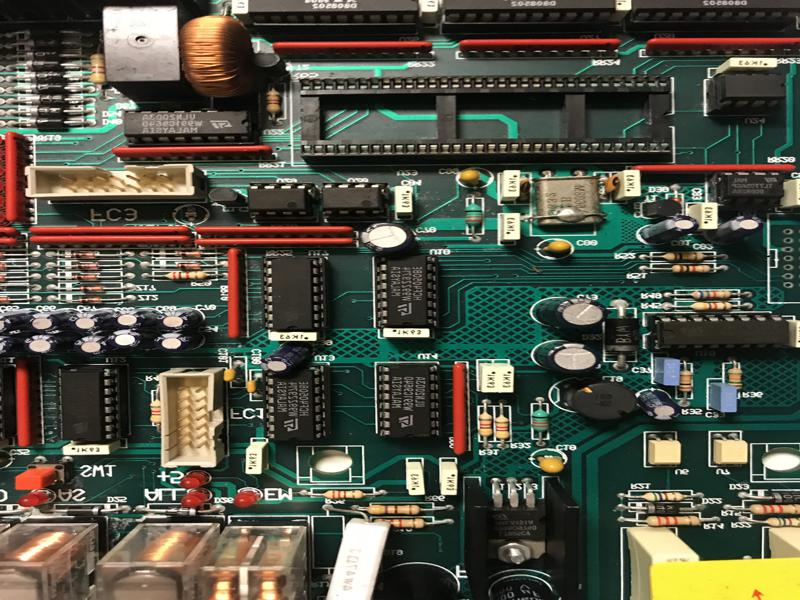Capacitor: (537, 297, 608, 330), (535, 339, 601, 374), (713, 214, 766, 246), (640, 215, 698, 244), (362, 221, 414, 253), (260, 343, 311, 375), (637, 392, 681, 422), (156, 307, 206, 333), (22, 333, 71, 358), (111, 307, 160, 329), (69, 310, 115, 333), (153, 332, 204, 352), (1, 306, 37, 334), (29, 310, 70, 333), (106, 330, 153, 350), (73, 335, 111, 357), (1, 334, 28, 356)
Diode: (605, 312, 637, 361), (151, 504, 207, 520), (55, 502, 114, 517), (21, 38, 72, 51), (23, 117, 78, 129), (22, 70, 71, 83), (24, 82, 74, 94), (638, 503, 687, 515), (21, 49, 69, 61), (24, 59, 67, 72), (20, 28, 74, 38), (28, 94, 77, 105), (26, 106, 76, 116), (764, 490, 800, 503), (73, 283, 110, 295), (73, 295, 113, 305), (165, 250, 212, 258), (168, 261, 209, 270), (71, 261, 108, 270), (70, 252, 108, 260), (71, 273, 108, 281)
LED: (178, 469, 211, 492), (179, 488, 211, 510), (18, 492, 53, 508), (232, 489, 261, 508)
Resistor: (363, 503, 430, 516), (641, 514, 703, 527), (463, 201, 486, 234), (371, 518, 432, 530), (635, 490, 690, 503), (653, 251, 715, 262), (89, 49, 106, 89), (317, 488, 373, 500), (749, 503, 800, 516), (531, 405, 550, 439), (684, 289, 736, 301), (264, 87, 284, 116), (157, 271, 220, 280), (684, 302, 739, 312), (726, 364, 743, 395), (678, 365, 694, 396), (660, 265, 715, 274), (496, 409, 510, 443), (759, 517, 800, 528), (478, 410, 492, 441), (151, 392, 162, 431)
